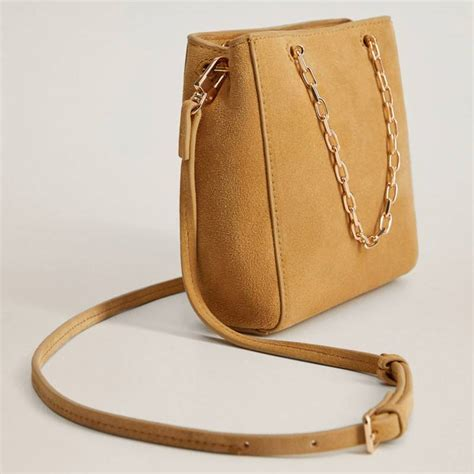gamuza: (178, 15, 420, 377)
